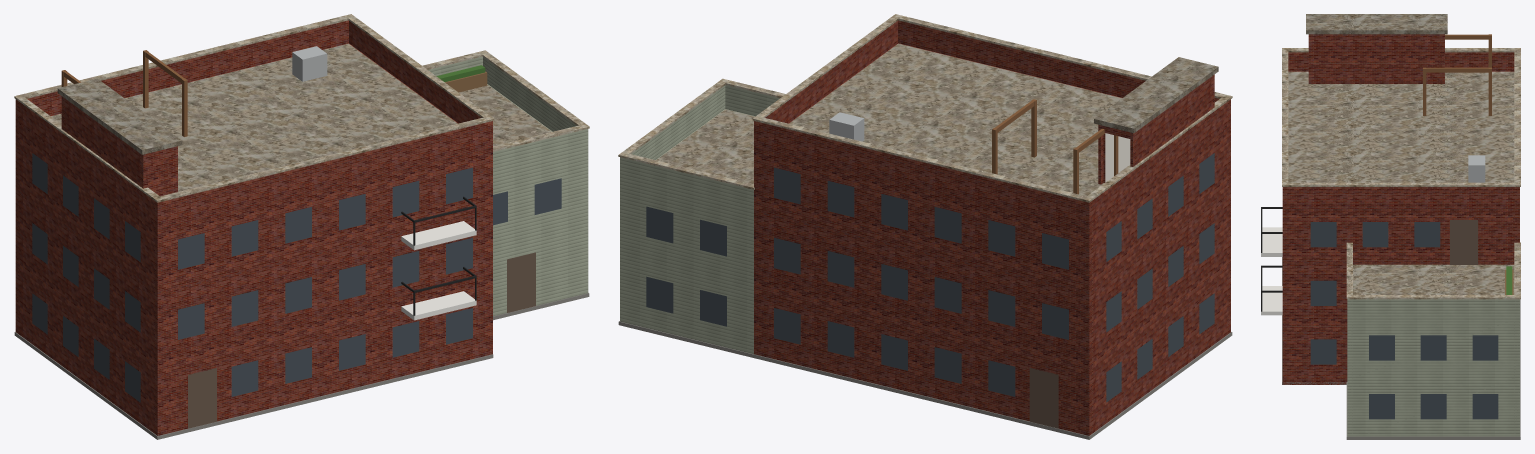
File: ns-garden-apartments.towns-v1.lod1.glb
3 renders of one model, left to right at view 1: azimuth 30°, elevation 25°; view 2: azimuth 150°, elevation 25°; view 3: azimuth 270°, elevation 25°, orthographic. The views are drawn at different scales.
Parts seen in each view (by area): view 1: ns-garden-apartments; view 2: ns-garden-apartments; view 3: ns-garden-apartments.
Boxes of the visible parts, <box> form: ns-garden-apartments: <box>14,14,589,439</box>; ns-garden-apartments: <box>618,14,1232,439</box>; ns-garden-apartments: <box>1261,14,1520,439</box>.
Size of the model in its own units: 21.11 by 11.95 by 12.04.
4 materials, 3 textured.
